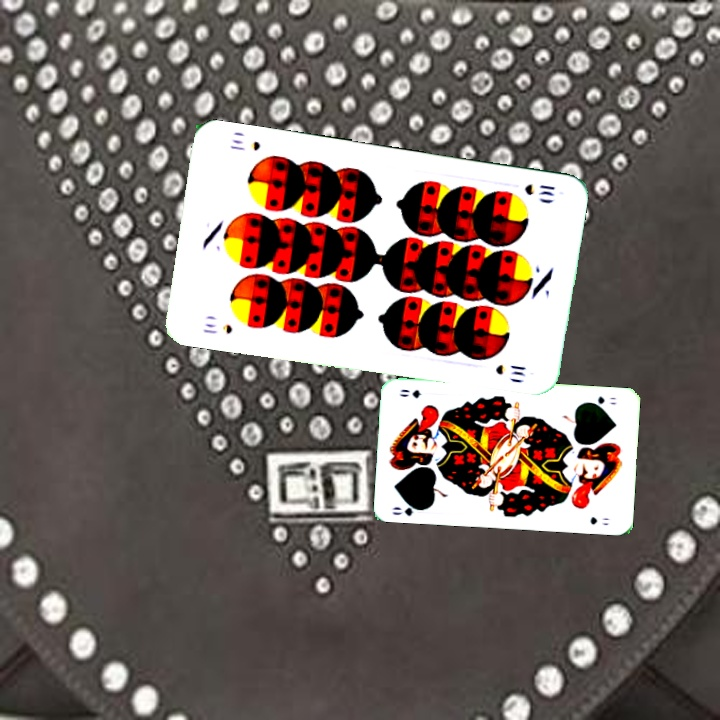GO: (388, 499, 429, 519), (583, 392, 619, 409)
S10: (520, 180, 557, 199), (199, 319, 235, 337)
